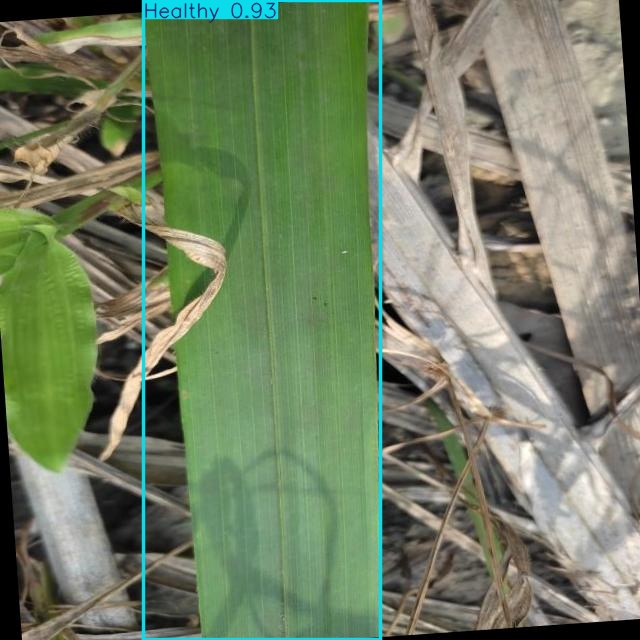Healthy: (144, 0, 380, 640)
